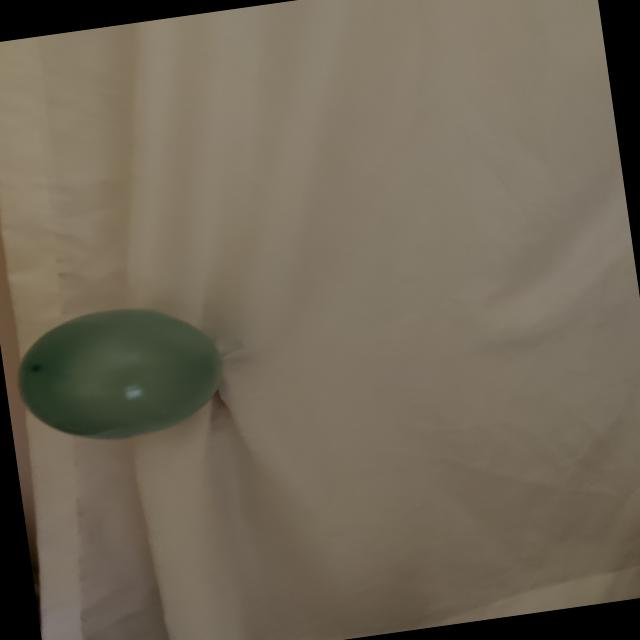balloon: (19, 309, 222, 440)
